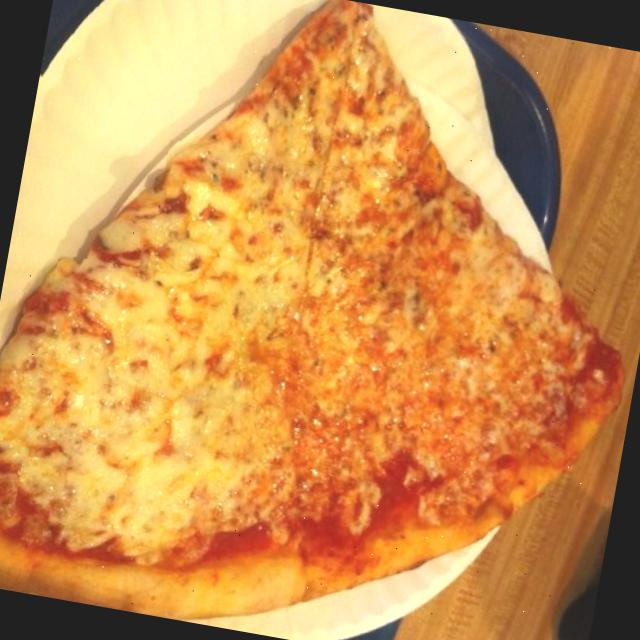cheese: (116, 138, 466, 488), (12, 253, 215, 542), (260, 7, 406, 175), (438, 218, 536, 384)
pizza: (0, 0, 622, 617)
